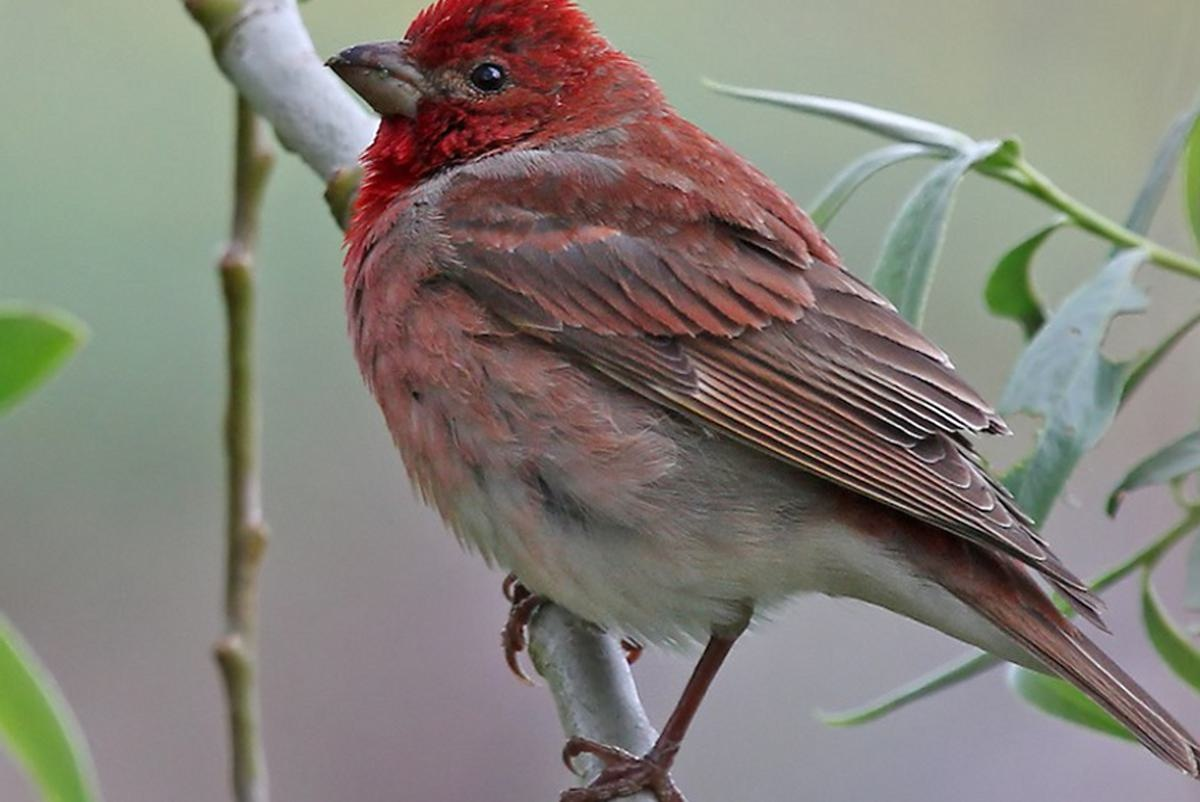rosefinch: (325, 7, 1054, 686)
